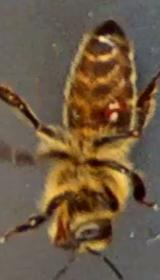varroa_mite: (96, 90, 137, 138)
